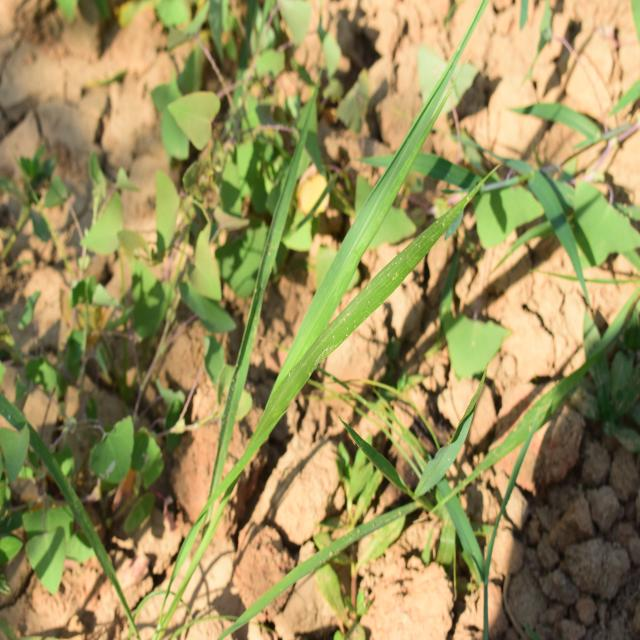green_foxtail: (211, 91, 447, 482)
